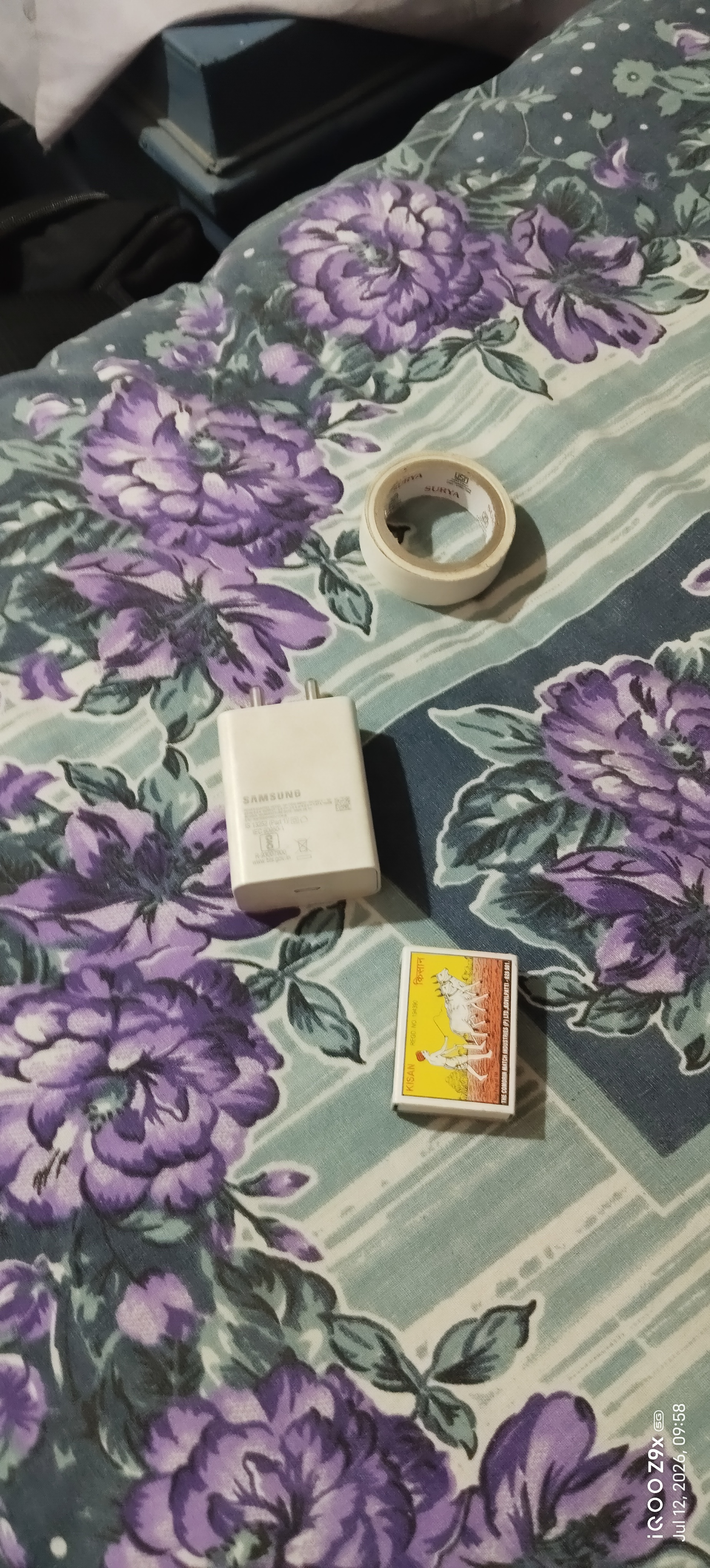charger: (198, 662, 406, 928)
matchbox: (380, 930, 541, 1144)
tape_roll: (345, 439, 537, 614)
